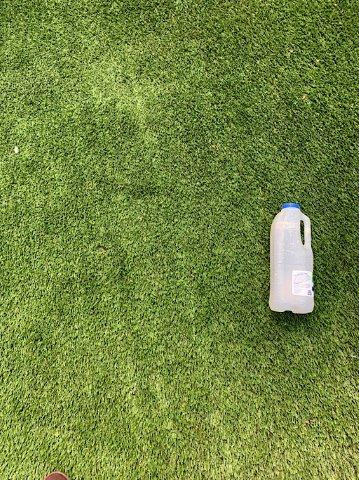botolplastik: (271, 203, 314, 312)
